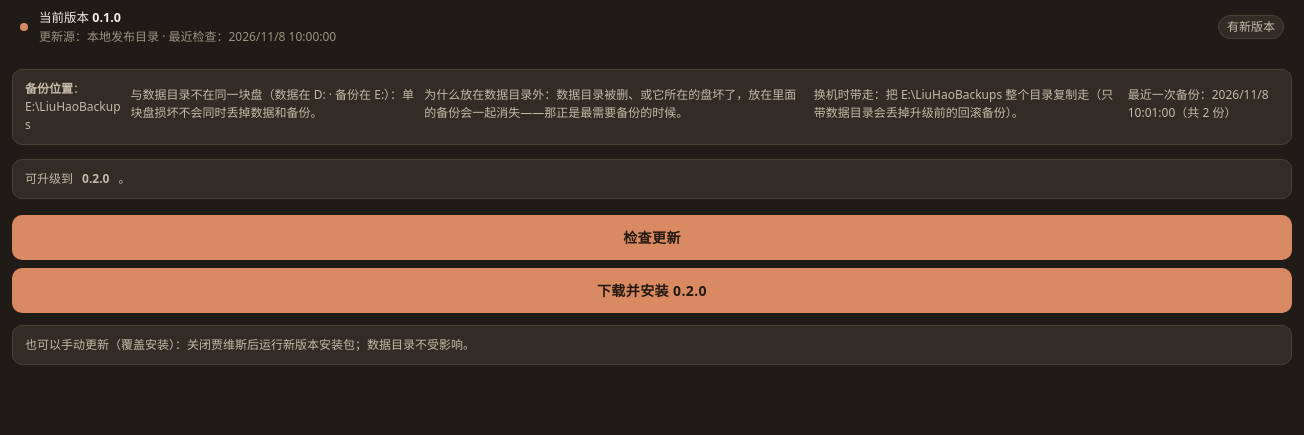
软件更新面板 › 安装失败时展示服务端给出的真实原因，而不是泛泛的“失败”
Step 1. Click the button "下载并安装 0.2.0" → (652, 290), box [12, 268, 1292, 313]
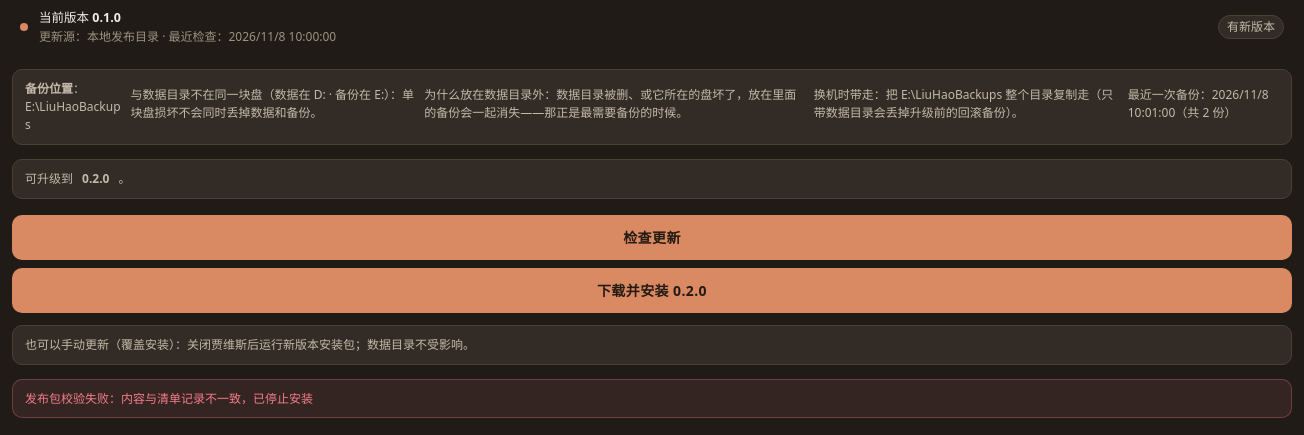
Expected: the message shows "发布包校验失败", [25, 390, 313, 407]
